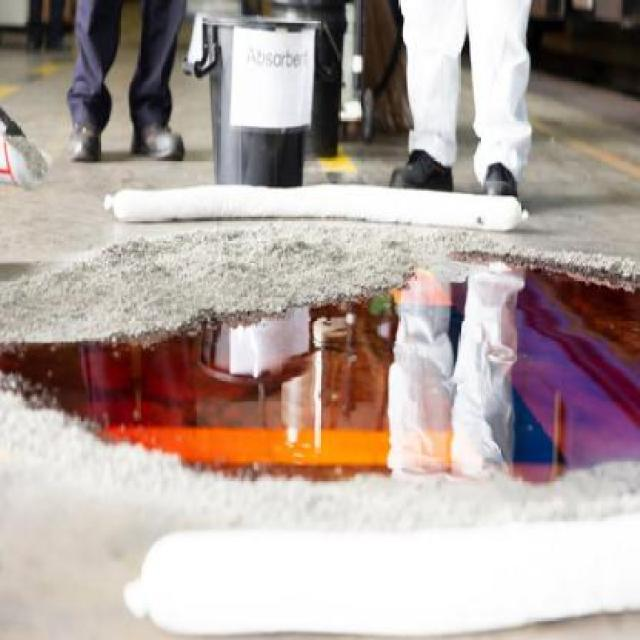spillage: (0, 268, 640, 484)
